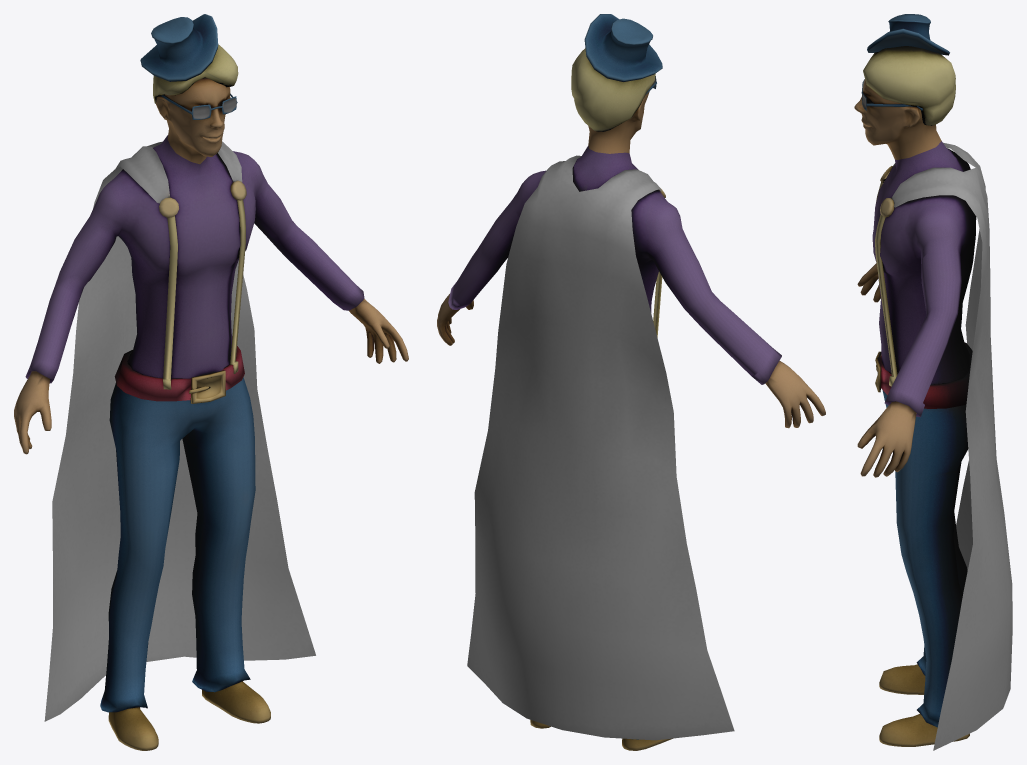
File: polcon_heroe_movie.fbx
The picture shows the model from 3 angles, left to right: view 1: azimuth 30°, elevation 25°; view 2: azimuth 150°, elevation 25°; view 3: azimuth 270°, elevation 25°; orthographic projection. The views are drawn at different scales.
Parts seen in each view (by area): view 1: maleBaseMesh; view 2: maleBaseMesh; view 3: maleBaseMesh.
Part boxes in pixels (x1,y1,x2,y2): maleBaseMesh: (14, 14, 408, 750); maleBaseMesh: (437, 14, 825, 750); maleBaseMesh: (854, 14, 1012, 750).
Bounding box in the file's own units: 1.01 × 1.77 × 0.367.
